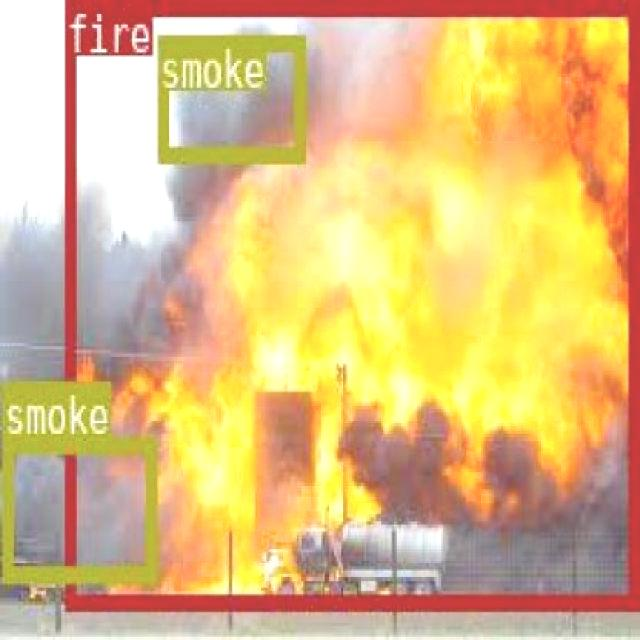fire: (62, 0, 636, 605)
smoke: (0, 435, 154, 580), (157, 32, 303, 160)
